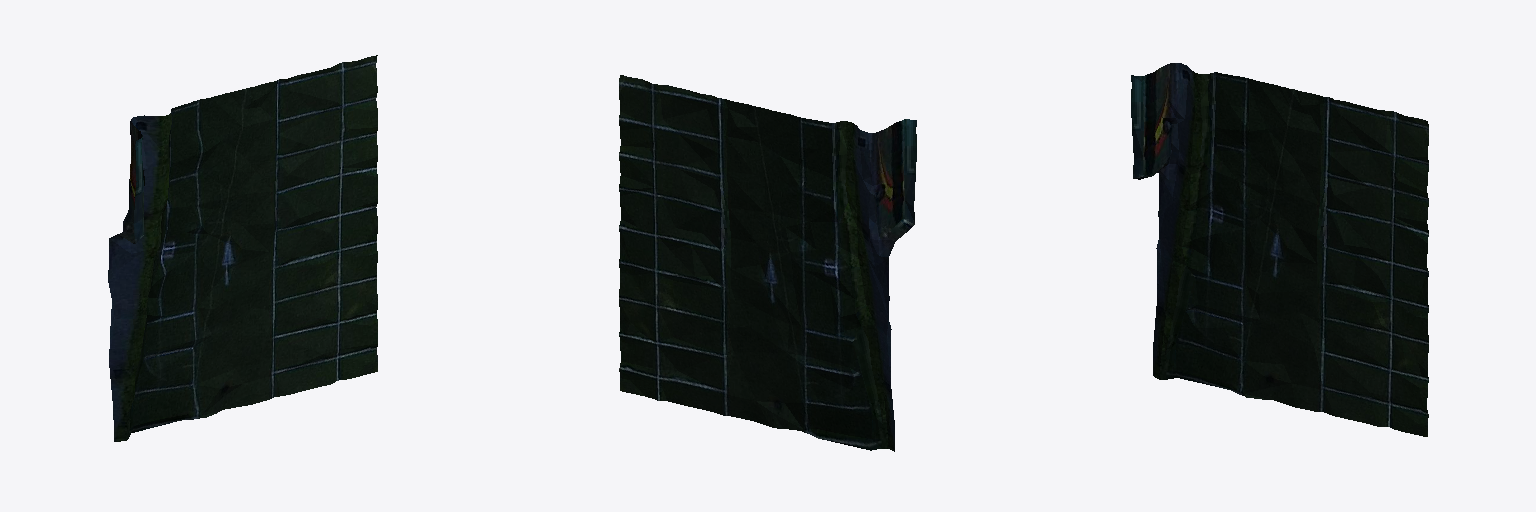
The picture shows the model from 3 angles: view 1: azimuth 30°, elevation 25°; view 2: azimuth 150°, elevation 25°; view 3: azimuth 330°, elevation 25°; orthographic projection.
Parts seen in each view (by area): view 1: obj_0; view 2: obj_0; view 3: obj_0.
Boxes of the visible parts, x1=… form: obj_0: x1=108, y1=55, x2=377, y2=441; obj_0: x1=619, y1=75, x2=916, y2=451; obj_0: x1=1131, y1=63, x2=1428, y2=436.
Size of the model in its own units: 20.08 by 22.53 by 3.76.
1 materials, 1 textured.